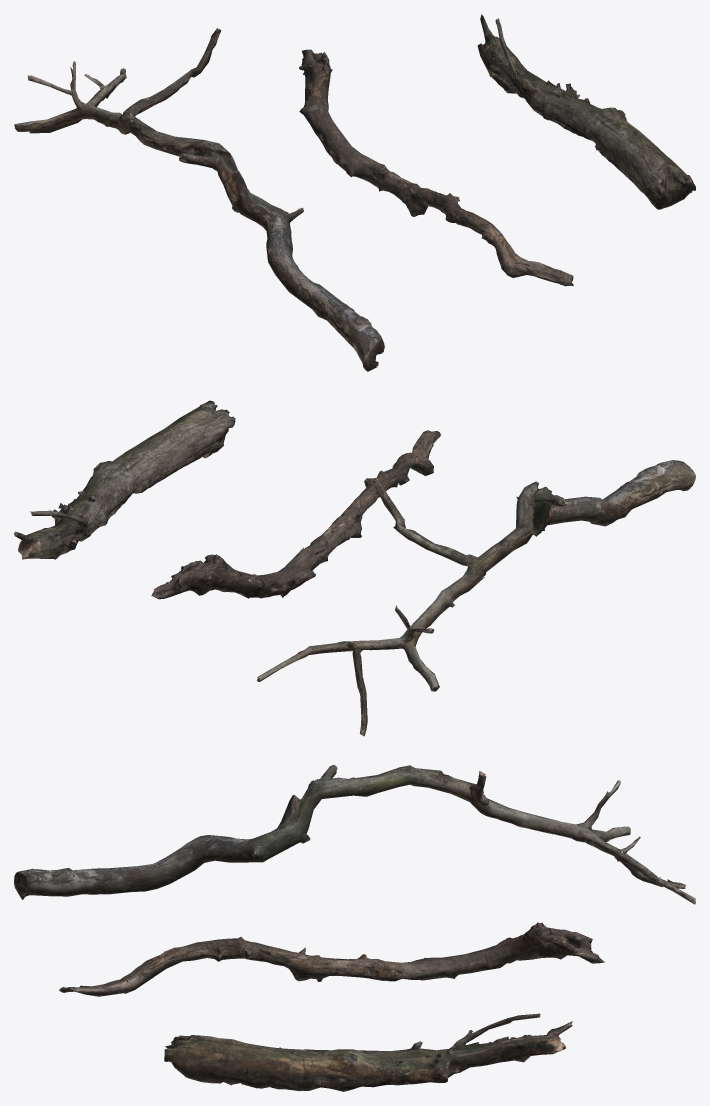
Rendered from dry_branches.glb.
3 views of the same model, one above another, from view 1: azimuth 30°, elevation 25°; view 2: azimuth 150°, elevation 25°; view 3: azimuth 270°, elevation 25° (orthographic). The views are drawn at different scales.
Parts seen in each view (by area): view 1: dry_branches_medium_01_a, dry_branches_medium_01_c, dry_branches_medium_01_b; view 2: dry_branches_medium_01_a, dry_branches_medium_01_c, dry_branches_medium_01_b; view 3: dry_branches_medium_01_a, dry_branches_medium_01_c, dry_branches_medium_01_b.
Boxes of the visible parts, x1,y1,x2,y2 form: dry_branches_medium_01_a: (14,28,384,371); dry_branches_medium_01_c: (477,14,695,209); dry_branches_medium_01_b: (299,49,573,286); dry_branches_medium_01_a: (257,460,695,736); dry_branches_medium_01_c: (14,400,235,559); dry_branches_medium_01_b: (151,430,440,599); dry_branches_medium_01_a: (14,765,695,904); dry_branches_medium_01_c: (164,1013,572,1091); dry_branches_medium_01_b: (59,922,604,996).
Bounding box in the file's own units: 1.06 × 0.3405 × 1.3.
1 material, 1 textured.
